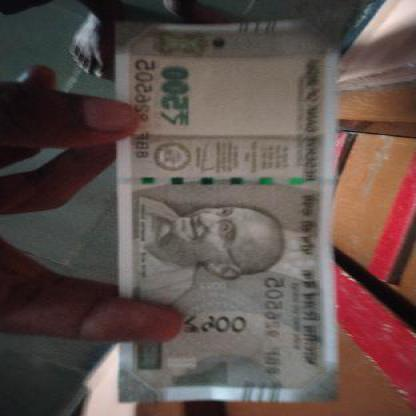New500Front: (117, 21, 331, 406)
